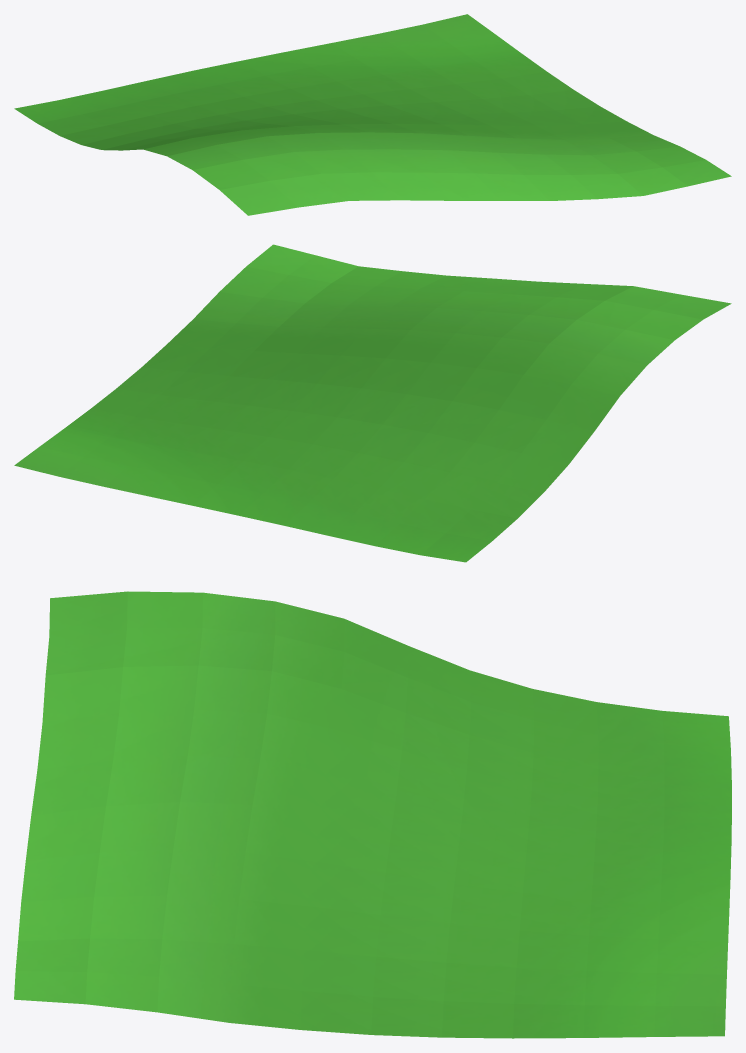
Rendered from ground_1_2.glb.
3 renders of one model, top to bottom at view 1: azimuth 30°, elevation 25°; view 2: azimuth 150°, elevation 25°; view 3: azimuth 270°, elevation 25°, orthographic. The views are drawn at different scales.
Visible parts, largest first — view 1: Ground_1_2.001; view 2: Ground_1_2.001; view 3: Ground_1_2.001.
Part boxes in pixels (box(x1,y1,x2,y2)): Ground_1_2.001: box(14, 14, 731, 215); Ground_1_2.001: box(14, 244, 731, 562); Ground_1_2.001: box(14, 591, 731, 1038).
Bounding box in the file's own units: 95.45 × 19.29 × 92.55.
Materials: 1 (1 with a texture image).
